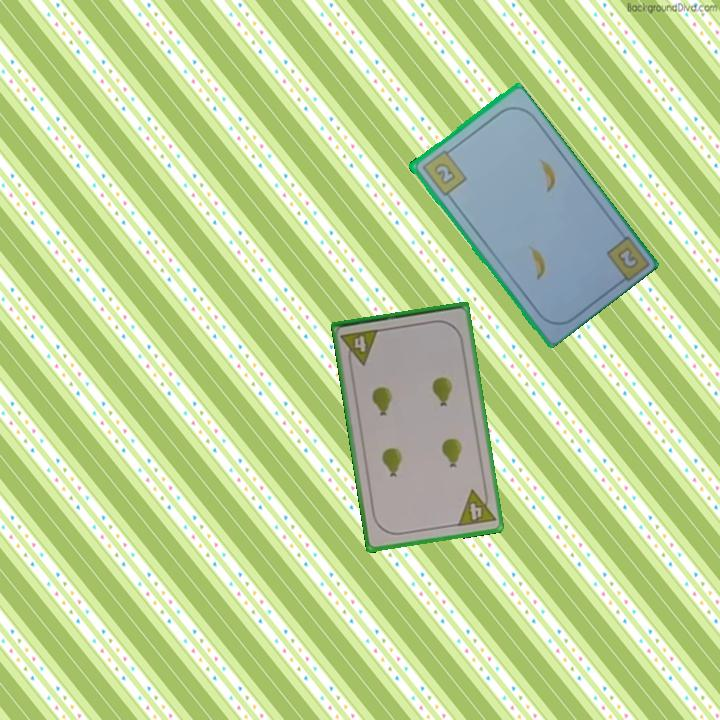2b: (418, 144, 469, 198), (613, 244, 642, 272)
4p: (454, 484, 498, 529), (337, 325, 382, 369)
